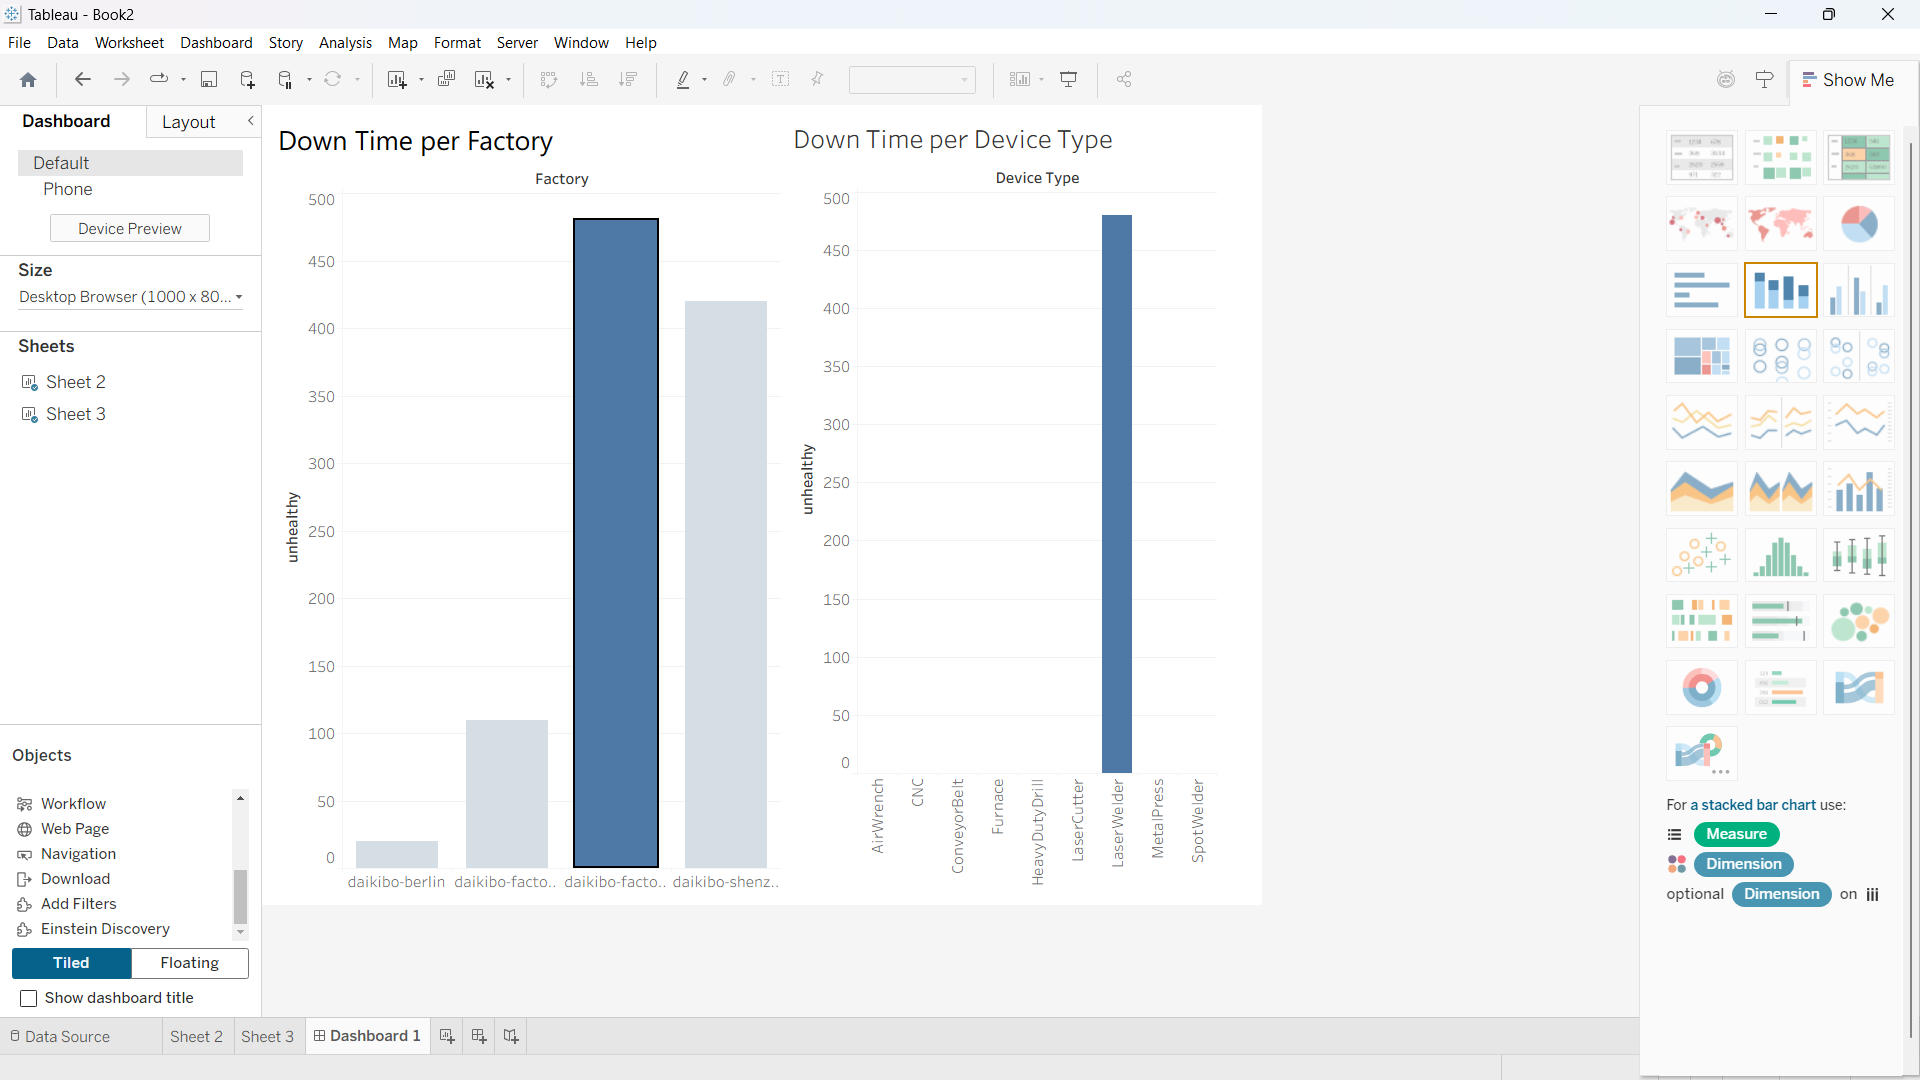

The dashboard page shown, as its layout file describes it:
{"tool":"tableau","page":{"name":"Dashboard 1","canvas":[1000,800],"ordinal":0},"visuals":[{"type":"worksheet","title":"Factory","mark":"Automatic","rows":["Calculation_1476415160340480"],"cols":["factory"],"box":[8,8,492,784]},{"type":"worksheet","title":"Device Type","mark":"Automatic","rows":["Calculation_1476415160340480"],"cols":["deviceType"],"box":[500,8,492,784]}]}

Visuals, with their boxes on the page's 1000x800 design canvas (x1, y1, x2, y2). These are canvas units, not pixel positions in the 1920x1080 screenshot, which may show the page scaled, cropped or inside an application window:
"Factory" worksheet: l=8, t=8, r=500, b=792
"Device Type" worksheet: l=500, t=8, r=992, b=792
